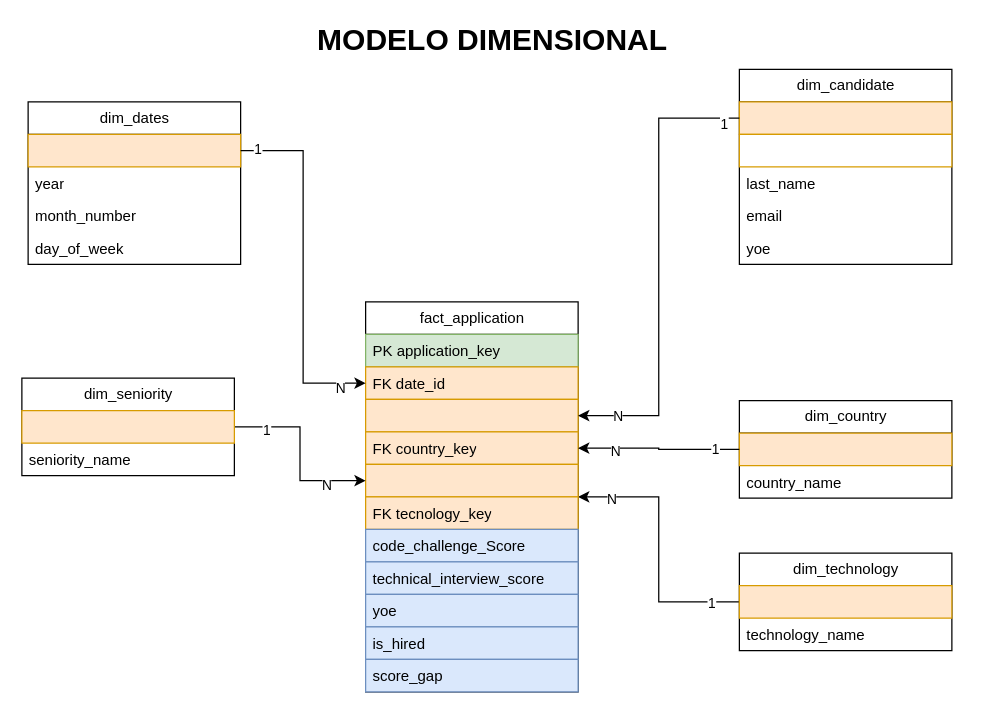
Image size: 988x716. Some labels were removed from this diagram. The shapes that lost their labels are listed below. From the top down, each one's centre as x and y in pixels, then its label:
[845,117]: PK candidate_key
[134,150]: PK date_id
[845,150]: first_name
[127,426]: PK seniority_key
[471,415]: FK candidate_key
[845,449]: PK country_key
[471,480]: FK seniority_key
[845,601]: PK technology_key
